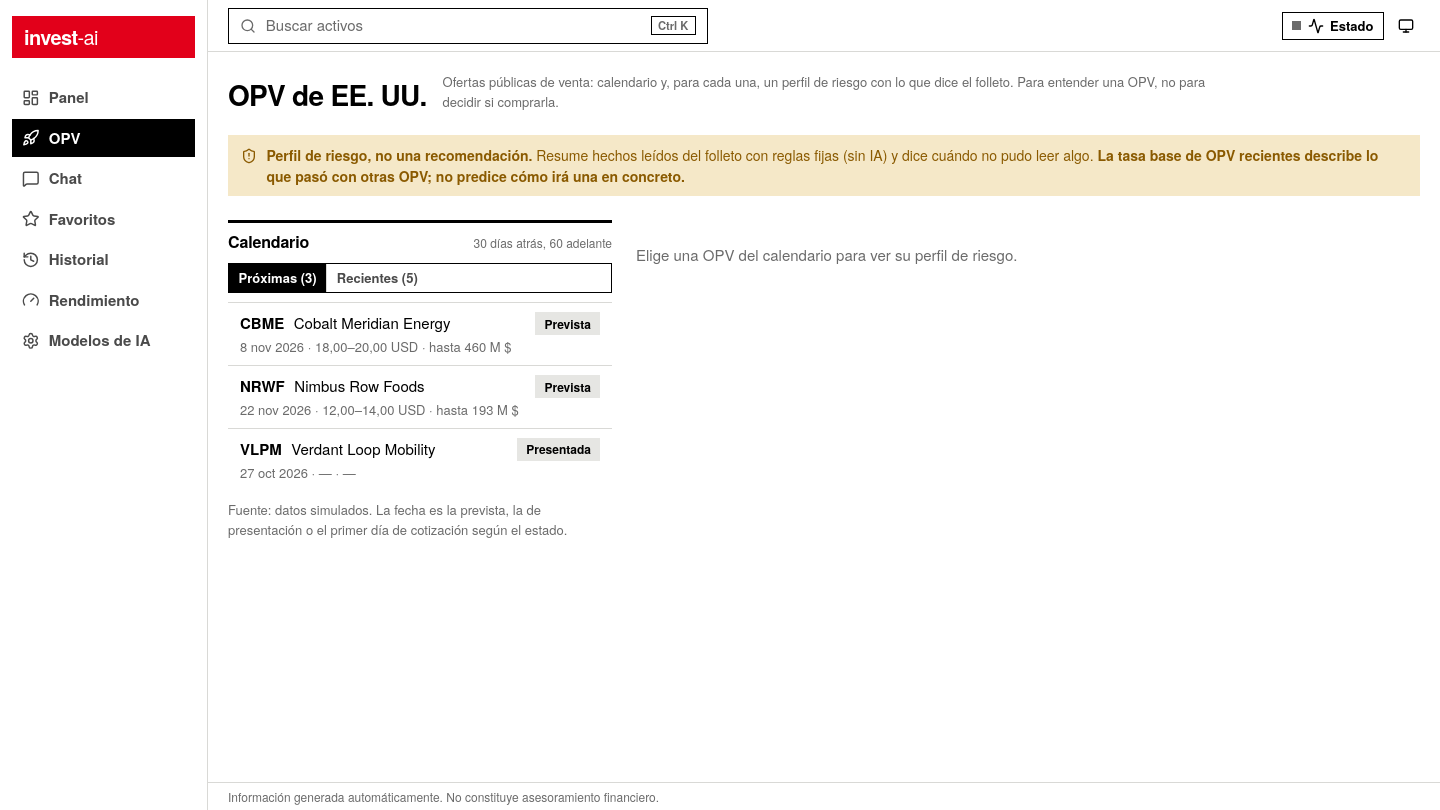
OPV › muestra el aviso permanente y el calendario con estado
Expected: the heading "OPV de EE. UU." is shown, [228,80,427,111]
Expected: the element named "Aviso sobre el perfil de riesgo" shows "Perfil de riesgo, no una recomendación", [266,145,532,165]
// Fase previa a cotizar: las de precio fijado están en «Recientes».
Click the button "Recientes (5)": {"x": 377, "y": 278} [327,264,427,292]
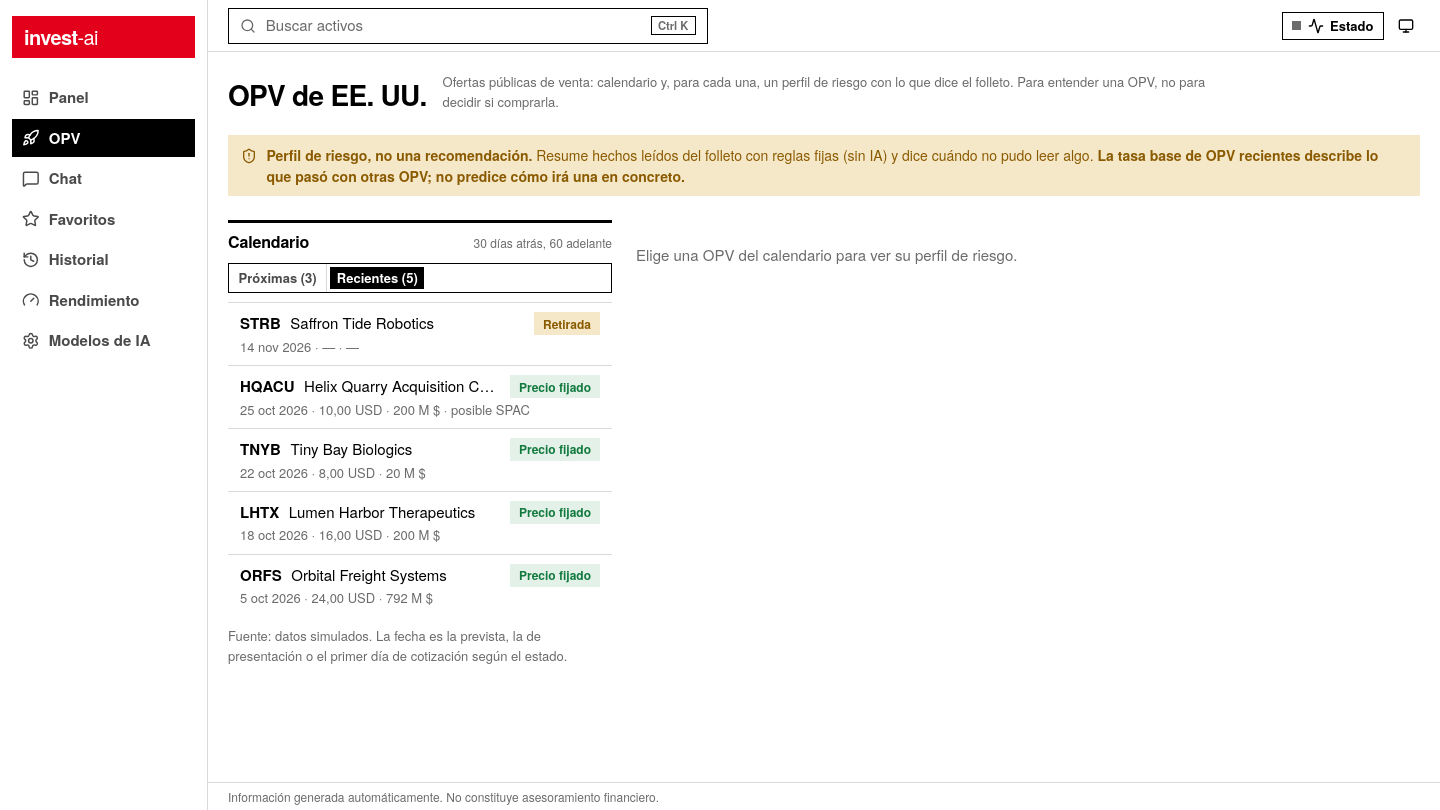
Expected: the text "Orbital Freight Systems" is shown, [291,564,447,585]
Expected: the text "Precio fijado" next to "Helix Quarry Acquisition Corp." is shown, [519,378,591,396]
